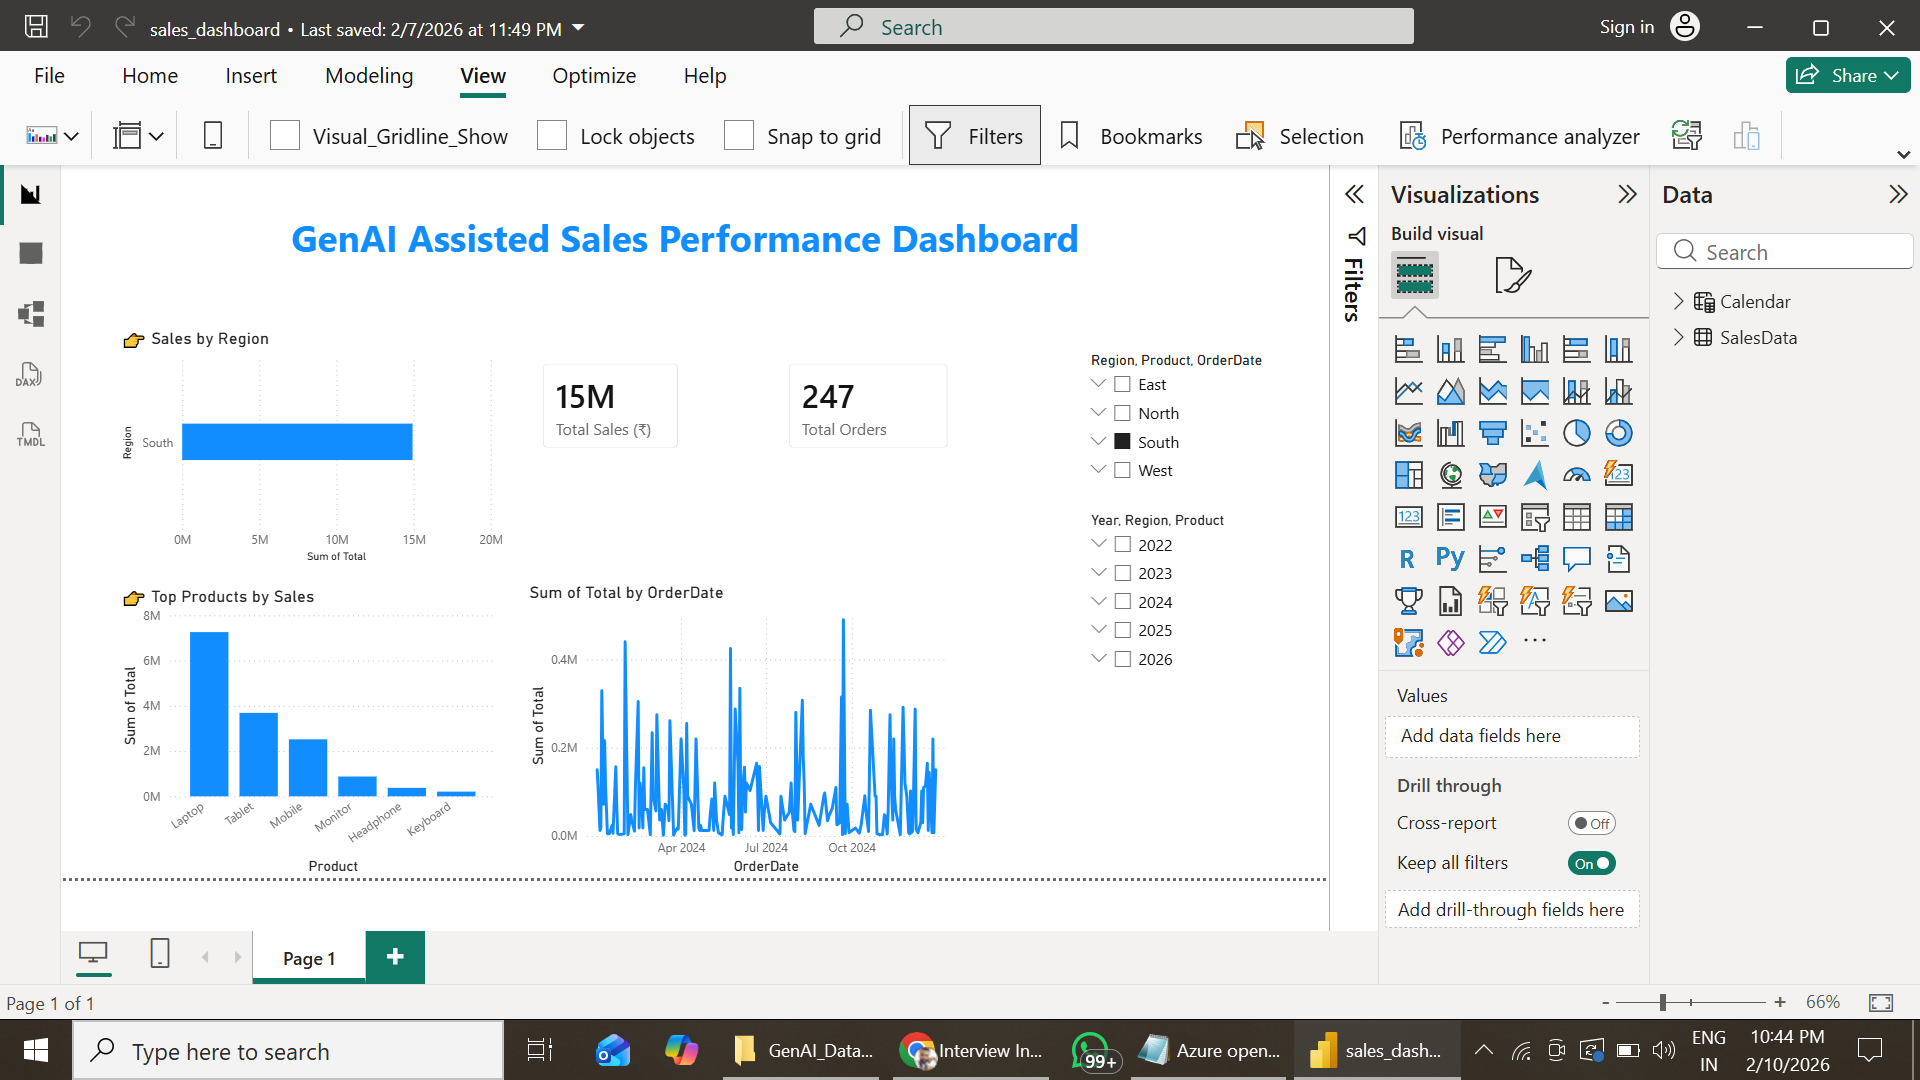

Layout of this report page (visuals, bound fields, positions):
{"tool":"powerbi","page":{"name":"Page 1","canvas":[1280,720],"ordinal":0},"visuals":[{"type":"cardVisual","fields":{"Data":["Sum(SalesData.Total)"]},"box":[469.2,182.9,170.2,119.3],"z":0},{"type":"cardVisual","fields":{"Data":["CountNonNull(SalesData.OrderID)"]},"box":[717.4,182.9,194.1,119.3],"z":1},{"type":"barChart","title":"👉 Sales by Region","fields":{"Y":["Sum(SalesData.Total)"],"Category":["SalesData.Region"]},"box":[55.7,160.7,394.5,245],"z":2},{"type":"lineChart","fields":{"Category":["SalesData.OrderDate.Variation.Date Hierarchy.Year"],"Y":["Sum(SalesData.Total)"]},"box":[467.6,421.5,443.8,299],"z":3},{"type":"columnChart","title":"👉 Top Products by Sales","fields":{"Category":["SalesData.Product"],"Y":["Sum(SalesData.Total)"]},"box":[55.7,421.5,388.1,299],"z":4},{"type":"slicer","fields":{"Values":["SalesData.Region","SalesData.Product","SalesData.OrderDate"]},"box":[1025.9,182.9,238.6,143.2],"z":5},{"type":"slicer","fields":{"Values":["Calendar.Year","SalesData.Region","SalesData.Product"]},"box":[1025.9,345.2,213.1,184.5],"z":6},{"type":"textbox","box":[55.7,42.9,1148.4,60.4],"z":7}]}

Visuals, with their boxes in screenshot pixels (x1, y1, x2, y2):
cardVisual - Sum(SalesData.Total): [814, 246, 1057, 416]
cardVisual - CountNonNull(SalesData.OrderID): [1169, 246, 1446, 416]
"👉 Sales by Region" barChart: [224, 214, 787, 564]
lineChart - SalesData.OrderDate.Variation.Date Hierarchy.Year x Sum(SalesData.Total): [812, 586, 1445, 1013]
"👉 Top Products by Sales" columnChart: [224, 586, 778, 1013]
slicer - SalesData.Region x SalesData.Product: [1609, 246, 1919, 450]
slicer - Calendar.Year x SalesData.Region: [1609, 478, 1913, 741]
textbox: [224, 46, 1863, 132]
